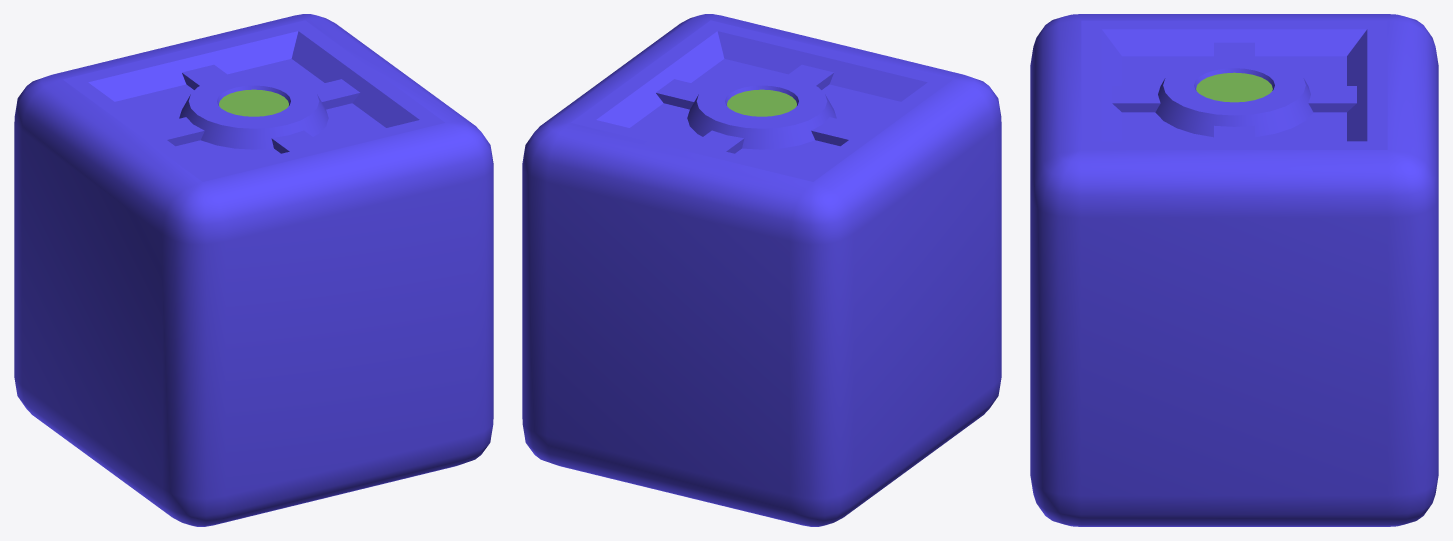
Rendered from Rotator_Main_01.FBX.
3 renders of one model, left to right at view 1: azimuth 30°, elevation 25°; view 2: azimuth 150°, elevation 25°; view 3: azimuth 270°, elevation 25°, orthographic. The views are drawn at different scales.
Visible parts, largest first — view 1: Rotator_Main_01; view 2: Rotator_Main_01; view 3: Rotator_Main_01.
Part boxes in pixels (x1,y1,x2,y2): Rotator_Main_01: [14, 14, 493, 526]; Rotator_Main_01: [522, 14, 1001, 526]; Rotator_Main_01: [1030, 14, 1438, 526].
Bounding box in the file's own units: 2 × 2 × 2.
